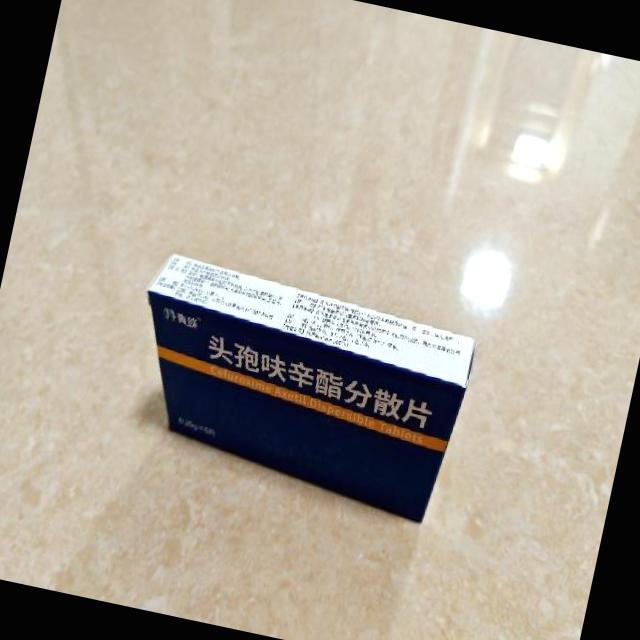box: (111, 248, 483, 530)
